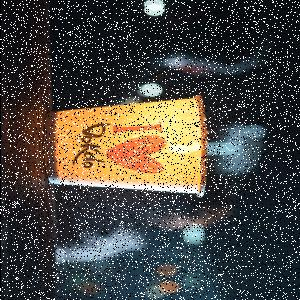Cup: (44, 95, 208, 199)
